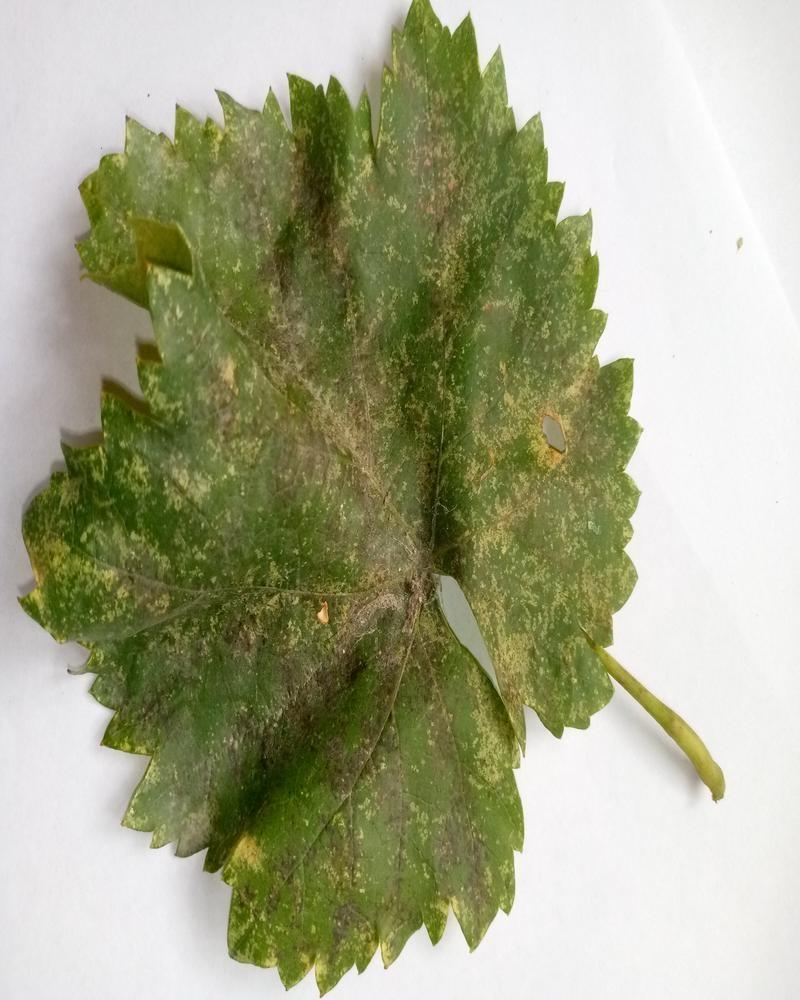Powdery-Mildew: (205, 305, 432, 578), (465, 481, 617, 733), (91, 112, 295, 275), (394, 54, 496, 286), (271, 571, 416, 728), (31, 512, 193, 637), (522, 338, 626, 501), (132, 703, 249, 844), (156, 554, 266, 677), (423, 770, 511, 913), (320, 128, 386, 308), (135, 402, 229, 513), (431, 352, 514, 460), (148, 269, 237, 353), (223, 831, 269, 877), (334, 382, 346, 405)
